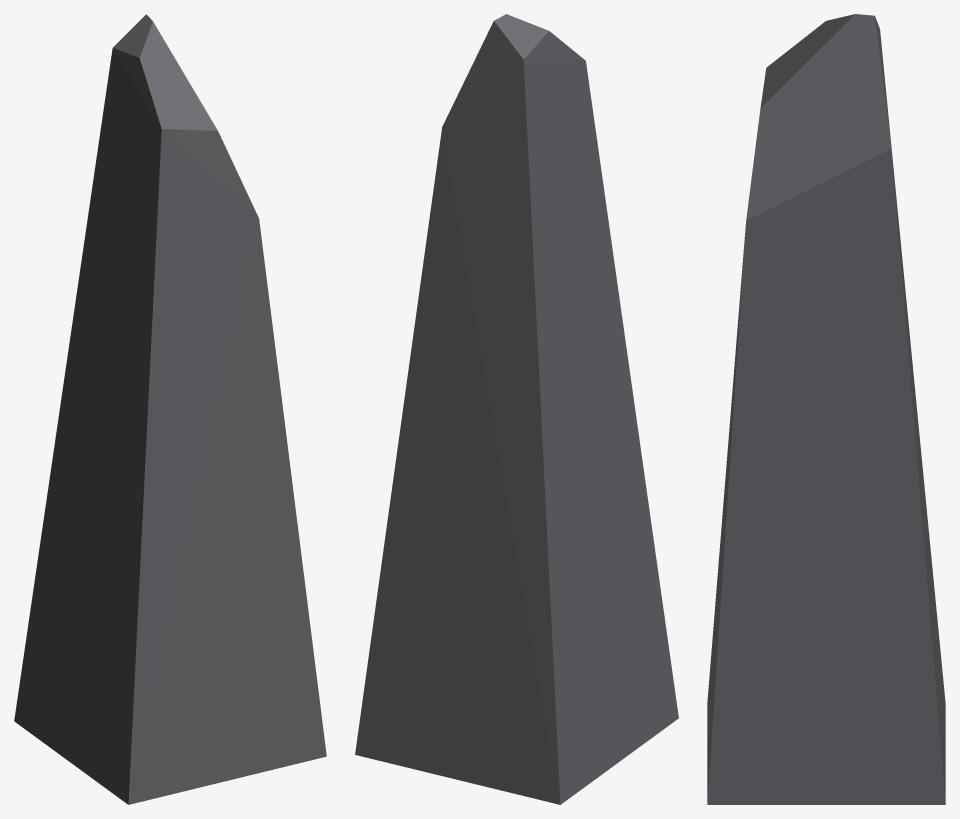
The model's file is Rock_Sharp_s_07 2.fbx.
The picture shows the model from 3 angles, left to right: view 1: azimuth 30°, elevation 25°; view 2: azimuth 150°, elevation 25°; view 3: azimuth 270°, elevation 25°; orthographic projection. The views are drawn at different scales.
Visible parts, largest first — view 1: Rock_Sharp_s_07; view 2: Rock_Sharp_s_07; view 3: Rock_Sharp_s_07.
Boxes of the visible parts, x1,y1,x2,y2 form: Rock_Sharp_s_07: [14, 14, 326, 804]; Rock_Sharp_s_07: [355, 14, 678, 804]; Rock_Sharp_s_07: [707, 14, 945, 804].
Bounding box in the file's own units: 20.78 × 70.93 × 20.75.
